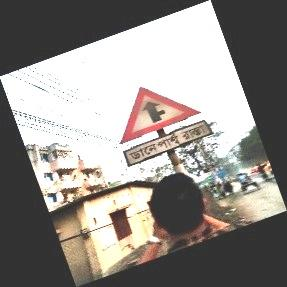Side-road-right: (120, 87, 217, 168)
